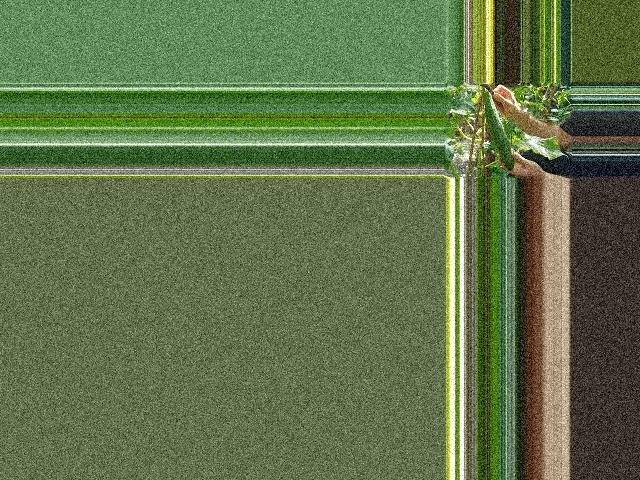cucumber: (484, 92, 514, 170)
